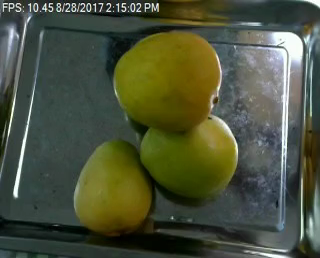Mango: (114, 30, 223, 126), (139, 110, 236, 196), (73, 140, 152, 233)
